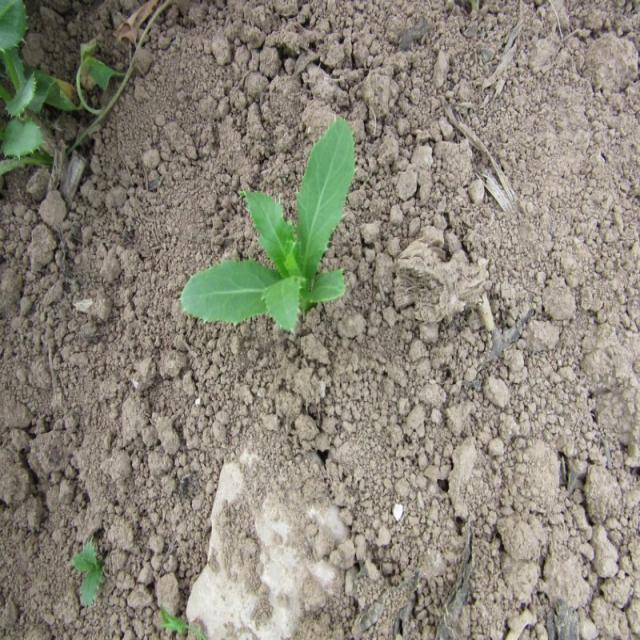cs: (180, 112, 360, 344)
